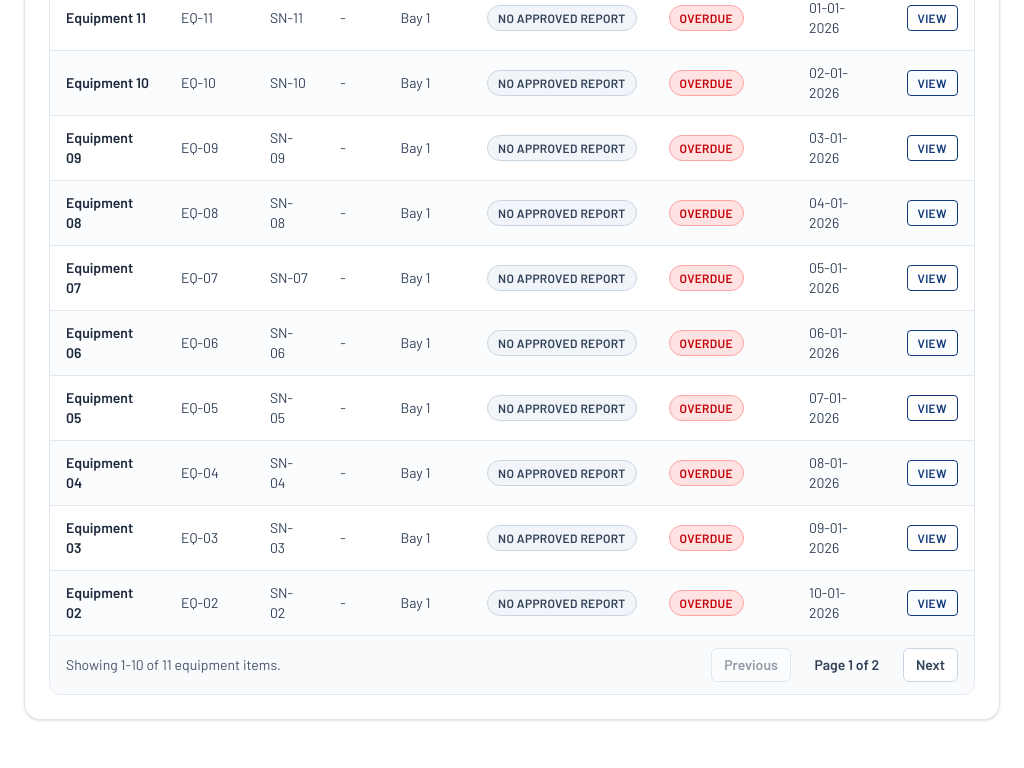
Test: PortalDashboardPage › sorts equipment by the nearest due date and paginates the table
(page scrolled)
Expected: the text "Equipment 02" is shown, [50,570,165,635]
Expected: the text "Equipment 01" is not shown
Click the button "Next" at (930, 665), box [903,648,958,682]
(page scrolled)
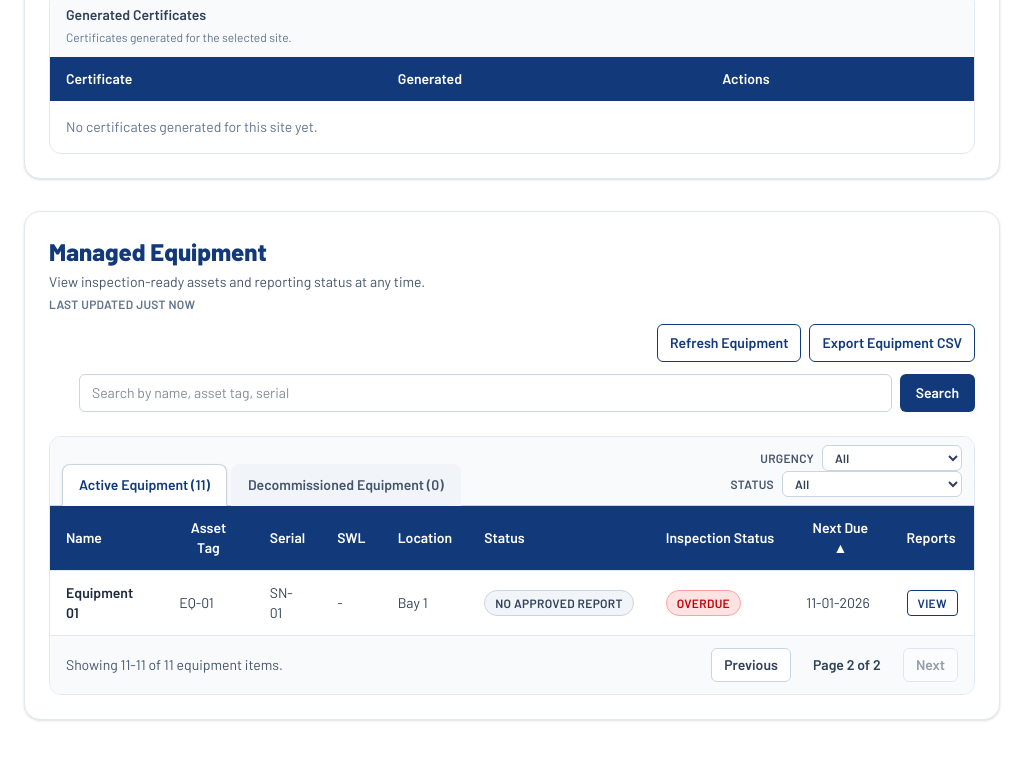
Expected: the text "Equipment 01" is shown, [50,570,163,635]
Expected: the text "Page 2 of 2" is shown, [813,656,881,673]
